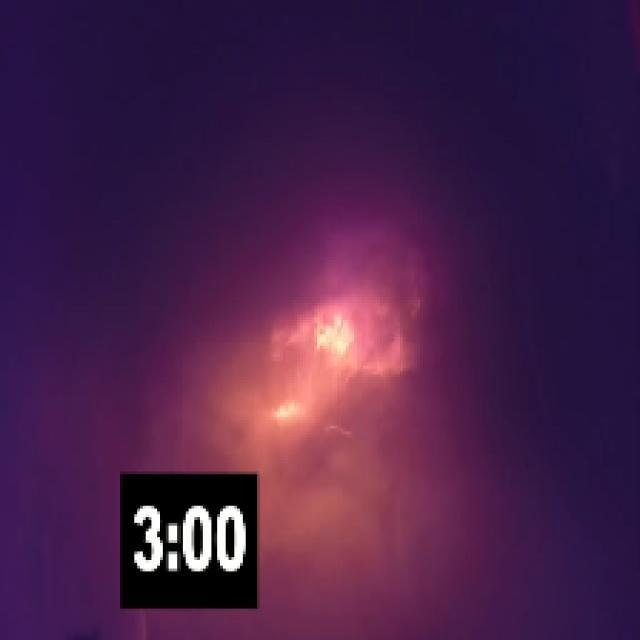Fire: (312, 314, 357, 354), (266, 391, 303, 423)
Smoke: (262, 171, 454, 303), (368, 314, 432, 383)
